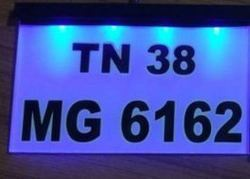plate: (19, 24, 249, 167)
